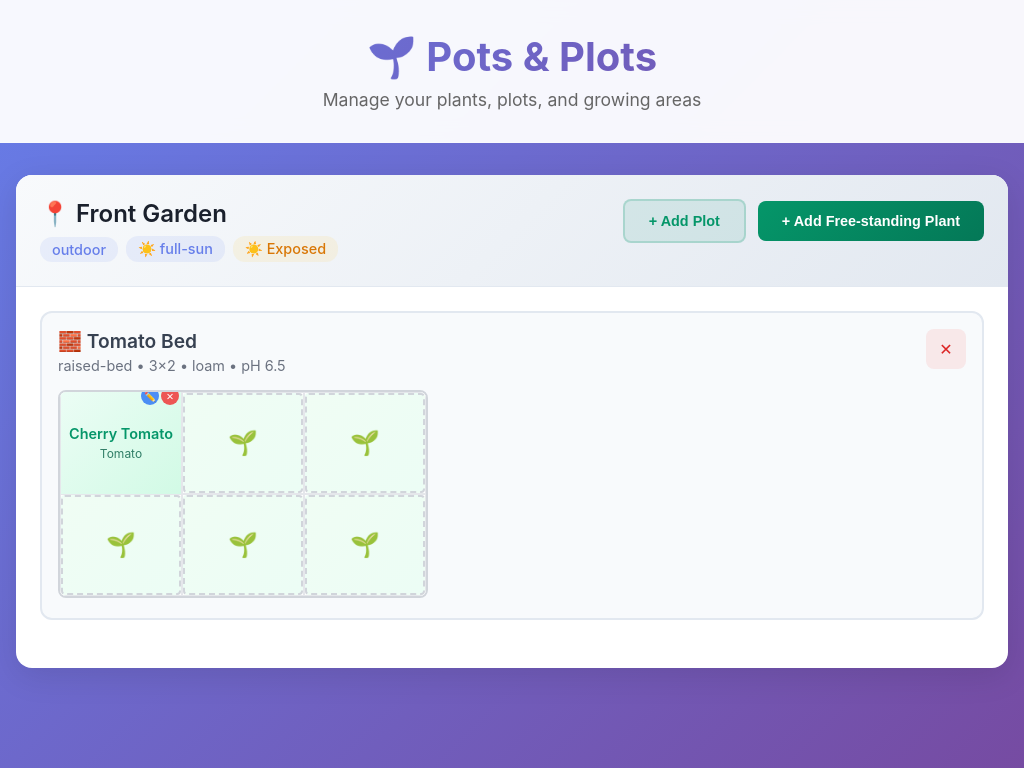
it: PlantDashboard › opens add plant dialog when clicking add button
Expected: the heading "📍 Front Garden" is shown, [40, 199, 227, 228]
// Click add free-standing plant button
Click the button "+ Add Free-standing Plant": [871, 221] box [758, 201, 984, 241]
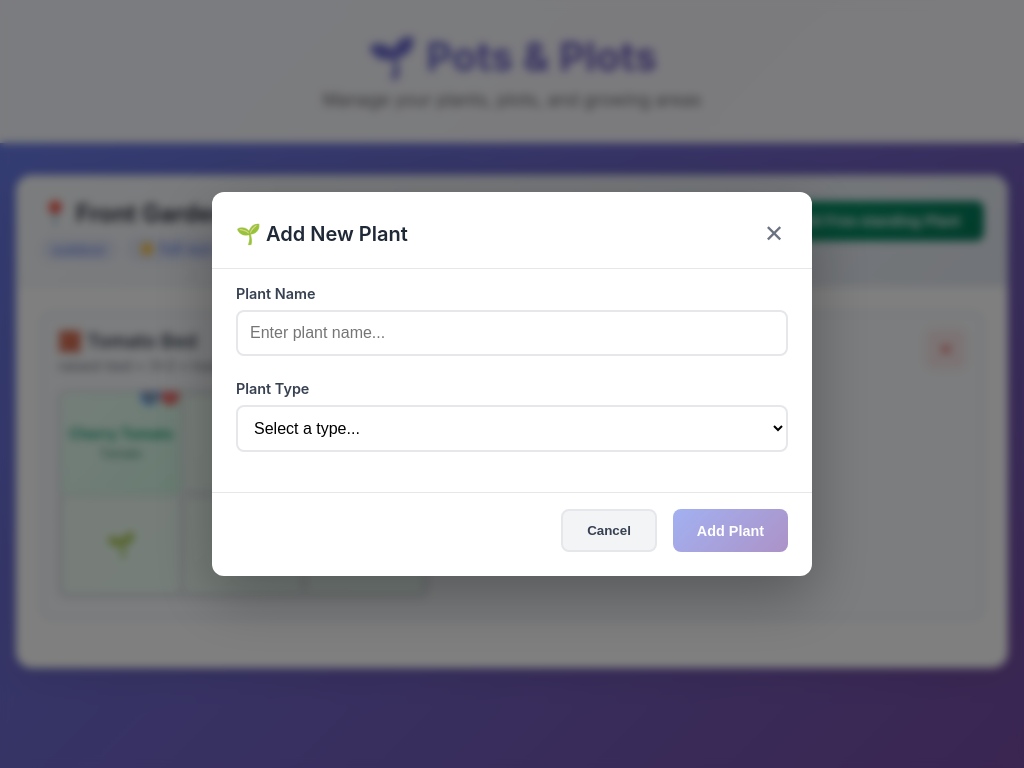
Expected: the heading "🌱 Add New Plant" is shown, [236, 222, 408, 246]
